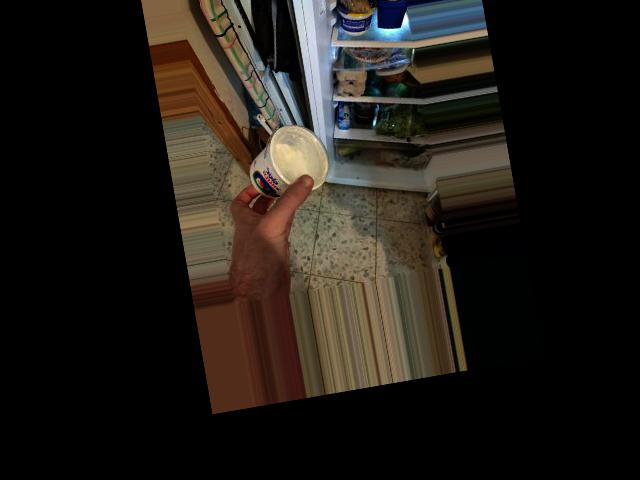cotage: (238, 118, 334, 208)
